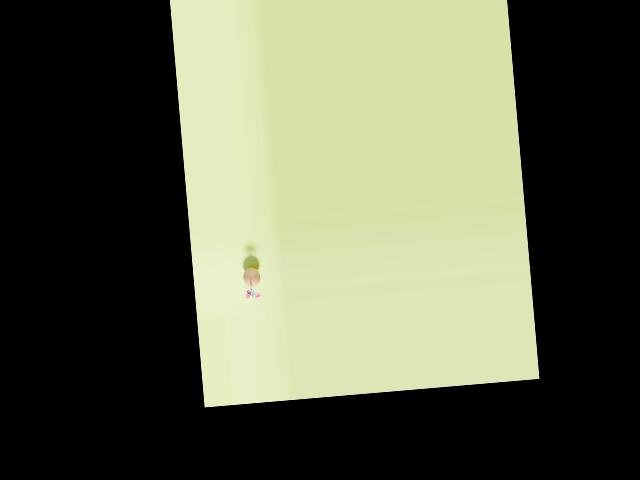egg: (242, 266, 260, 287)
